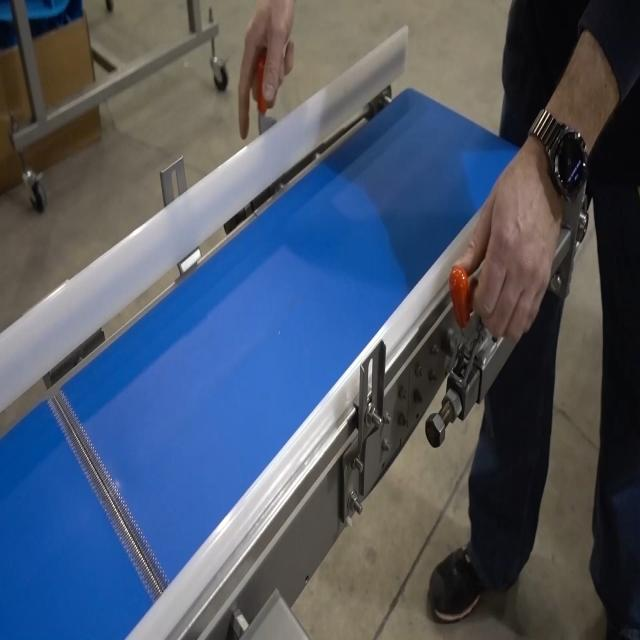Convoyeur: (0, 65, 591, 640)
